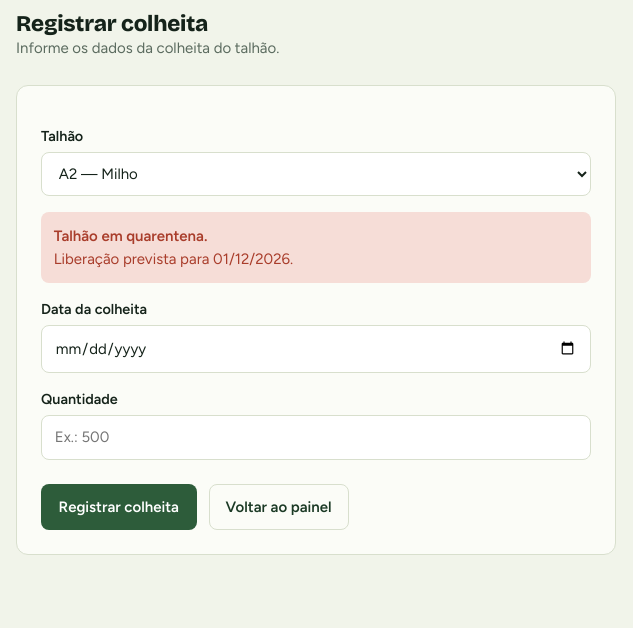
Test: RegistrarColheita - UI03 › exibe a mensagem do servidor para talhão em quarentena
Check: the dropdown labelled "Talhão" is shown, box [41,152,591,196]
Type "2026-11-26" into the date field labelled "Data da colheita" at (316, 349), box [41,325,591,373]
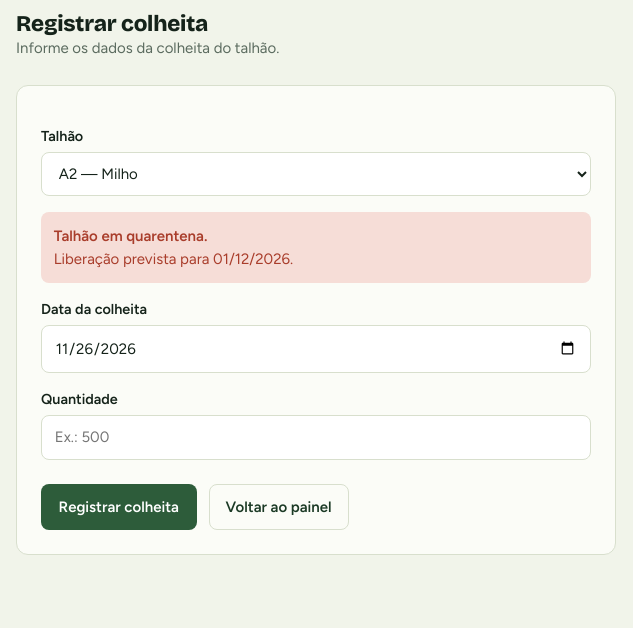
Type "500" into the number field labelled "Quantidade" at (316, 438), box [41,415,591,460]
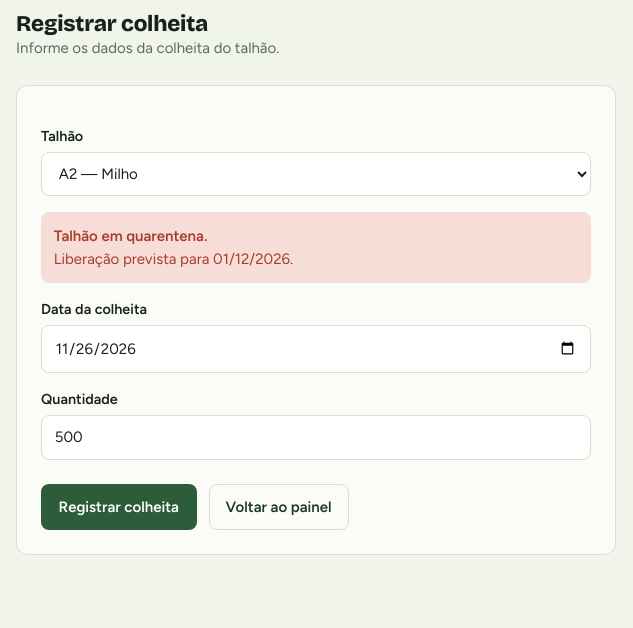
Click the button "Registrar colheita" at (119, 507), box [41,484,196,530]
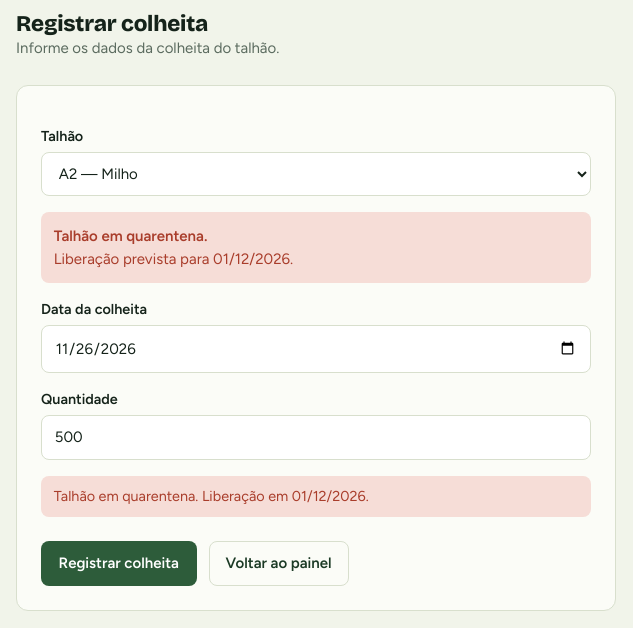
Check: the message reads "Talhão em quarentena. Liberação em 01/12/2026.", box [54,487,369,505]
